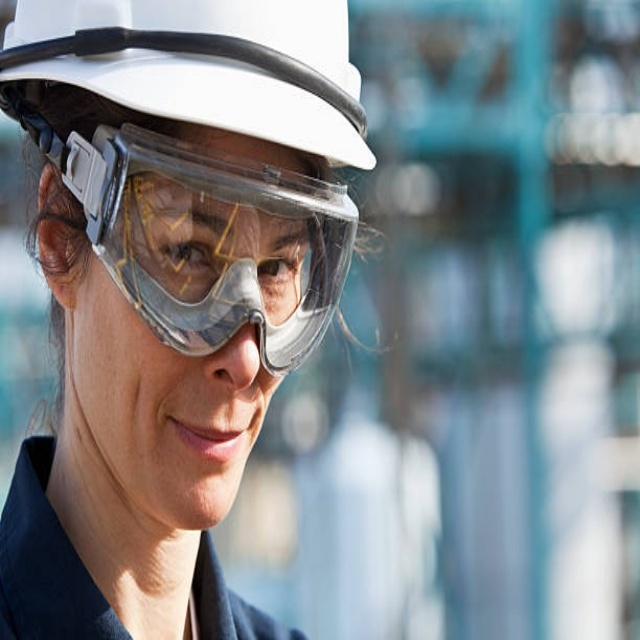Gafas: (84, 118, 360, 381)
Sin_mascara: (148, 391, 268, 527)
